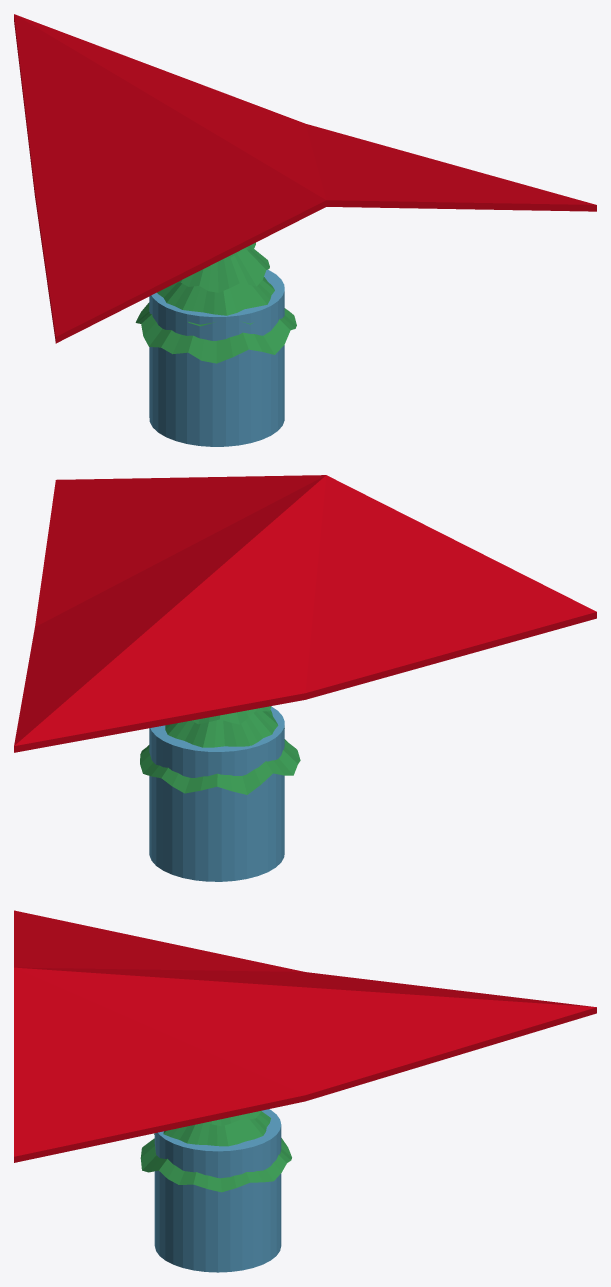
Rendered from glider.gltf.
The picture shows the model from 3 angles, top to bottom: view 1: azimuth 30°, elevation 25°; view 2: azimuth 150°, elevation 25°; view 3: azimuth 270°, elevation 25°; orthographic projection. The views are drawn at different scales.
Parts seen in each view (by area): view 1: Player, Tree; view 2: Player, Tree; view 3: Player, Tree.
Boxes of the visible parts, x1,y1,x2,y2 form: Player: (14,14,596,446); Tree: (135,242,296,363); Player: (14,475,596,881); Tree: (140,706,300,794); Player: (14,910,596,1272); Tree: (140,1110,291,1192).
Bounding box in the file's own units: 2 × 1.05 × 2.
